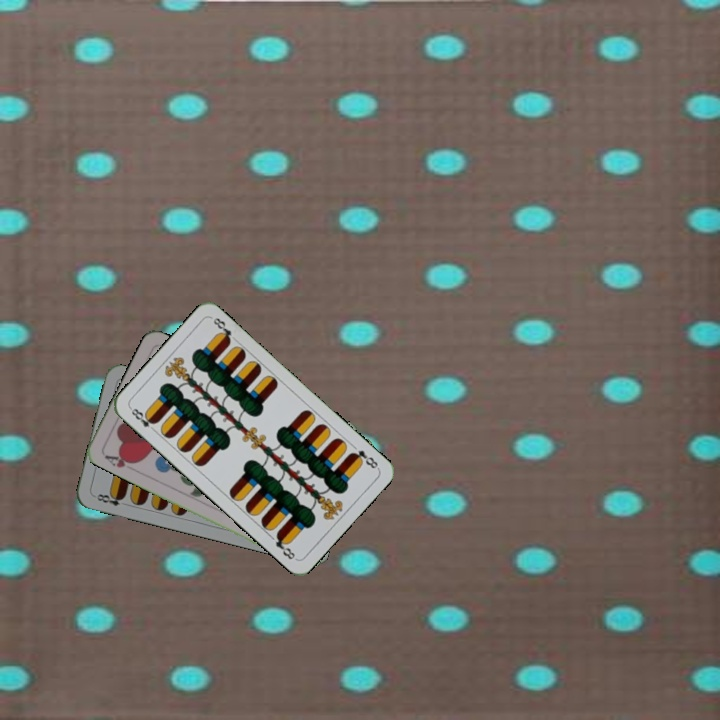E8: (126, 404, 159, 435), (346, 446, 381, 471), (90, 489, 127, 509)
HA: (100, 450, 140, 471)
